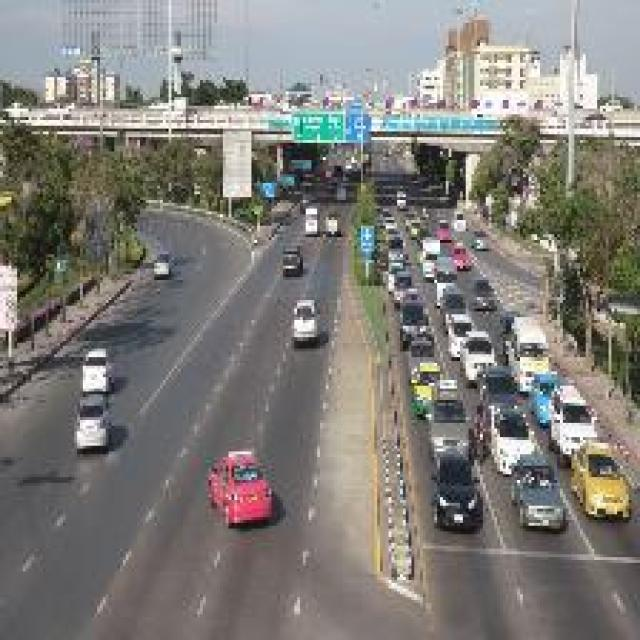other: (187, 444, 280, 524), (564, 436, 631, 530)
